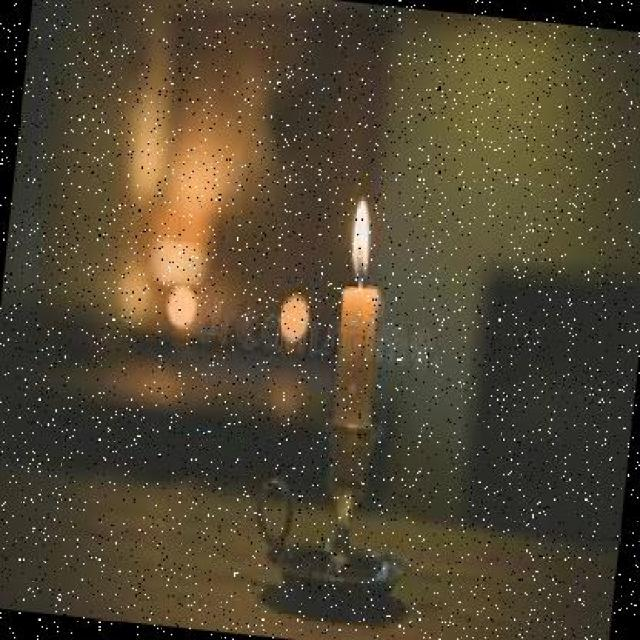fire: (338, 185, 391, 300)
